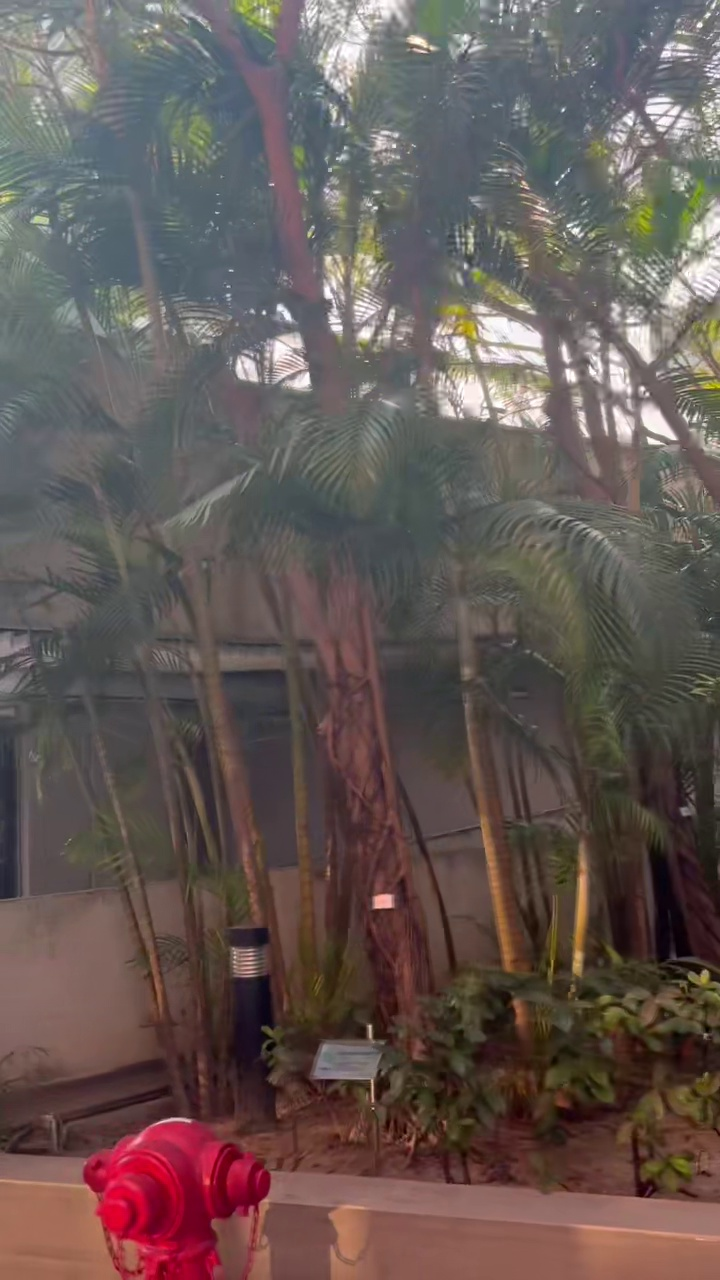Ficus benjamina: (198, 0, 430, 1028)
